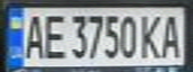0: (118, 11, 139, 60)
3: (66, 11, 87, 60)
5: (103, 11, 121, 60)
7: (84, 11, 106, 60)
A: (18, 11, 48, 61), (157, 11, 187, 60)
E: (39, 11, 69, 61)
K: (139, 11, 166, 60)
